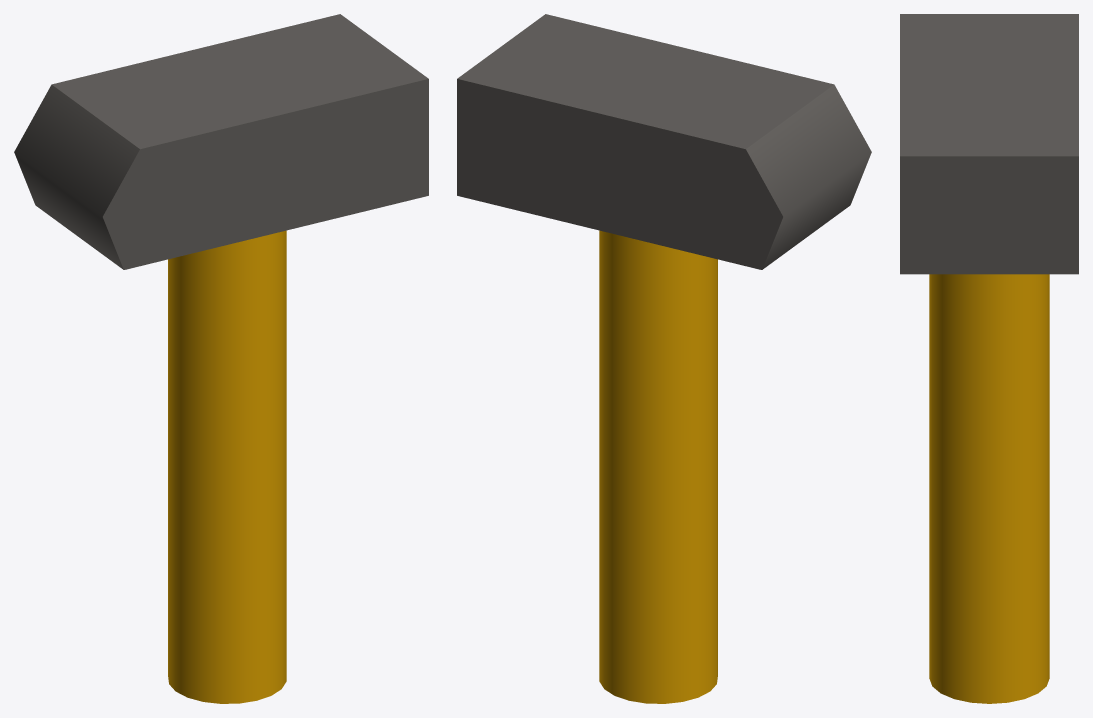
File: hammer.fbx
The picture shows the model from 3 angles, left to right: view 1: azimuth 30°, elevation 25°; view 2: azimuth 150°, elevation 25°; view 3: azimuth 270°, elevation 25°; orthographic projection.
Parts seen in each view (by area): view 1: polySurface2; view 2: polySurface2; view 3: polySurface2.
Part boxes in pixels (left/top/right/bottom): polySurface2: left=14, top=14, right=428, bottom=703; polySurface2: left=457, top=14, right=871, bottom=703; polySurface2: left=900, top=14, right=1078, bottom=703.
Size of the model in its own units: 0.4297 by 0.7477 by 0.202.
